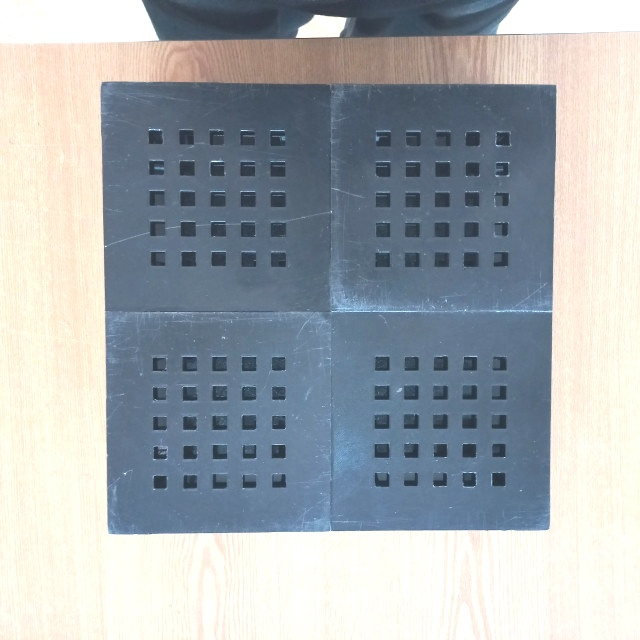pallet: (92, 76, 558, 542)
